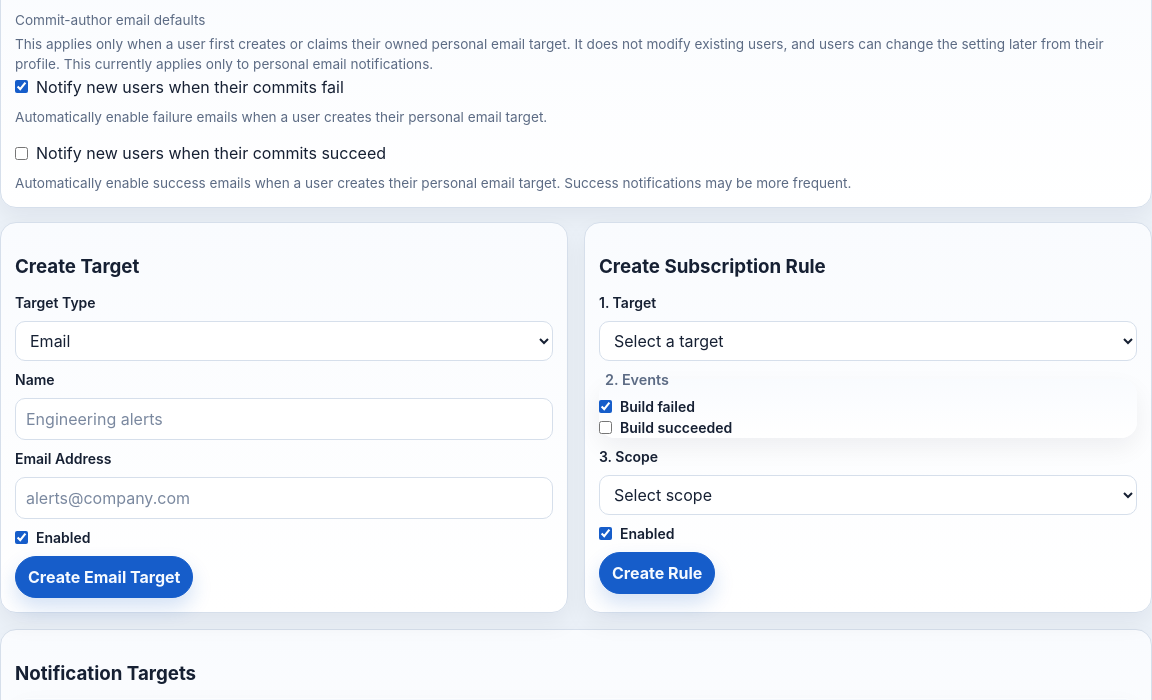
Test: NotificationsPage › shows validation error when job is missing for job scope
(page scrolled)
Select "Email · Engineering alerts" in the dropdown labelled "1. Target" at point(868, 340), box [599, 320, 1137, 360]
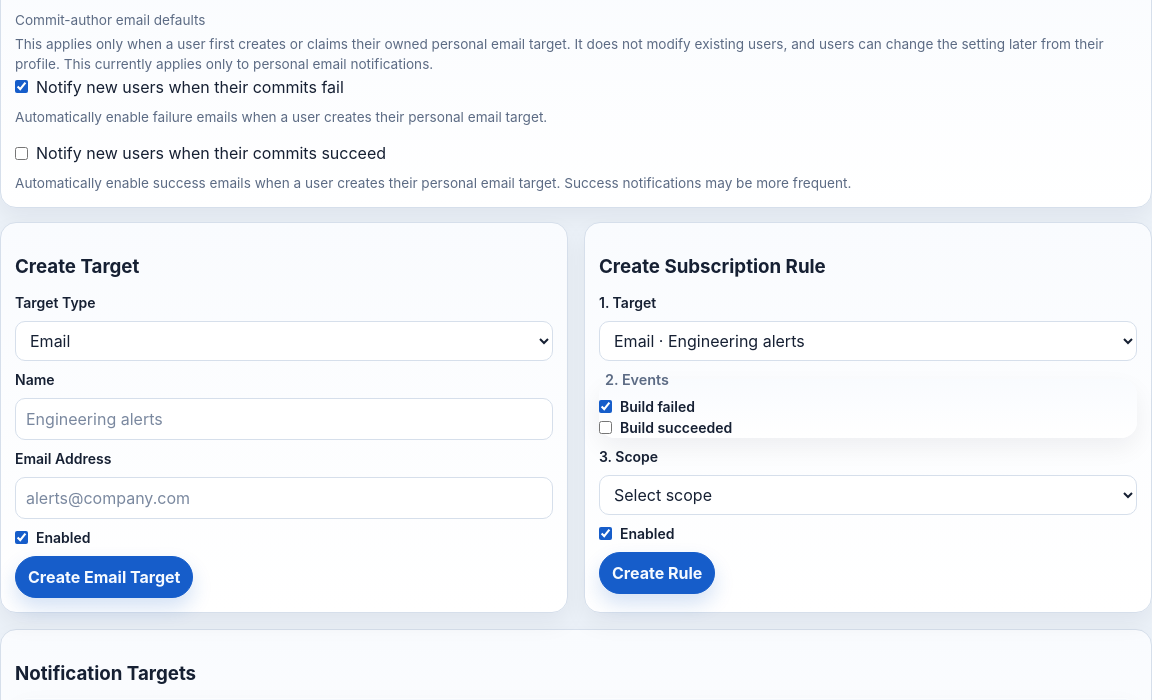
Select "One specific job" in the dropdown labelled "3. Scope" at point(868, 495), box [599, 475, 1137, 515]
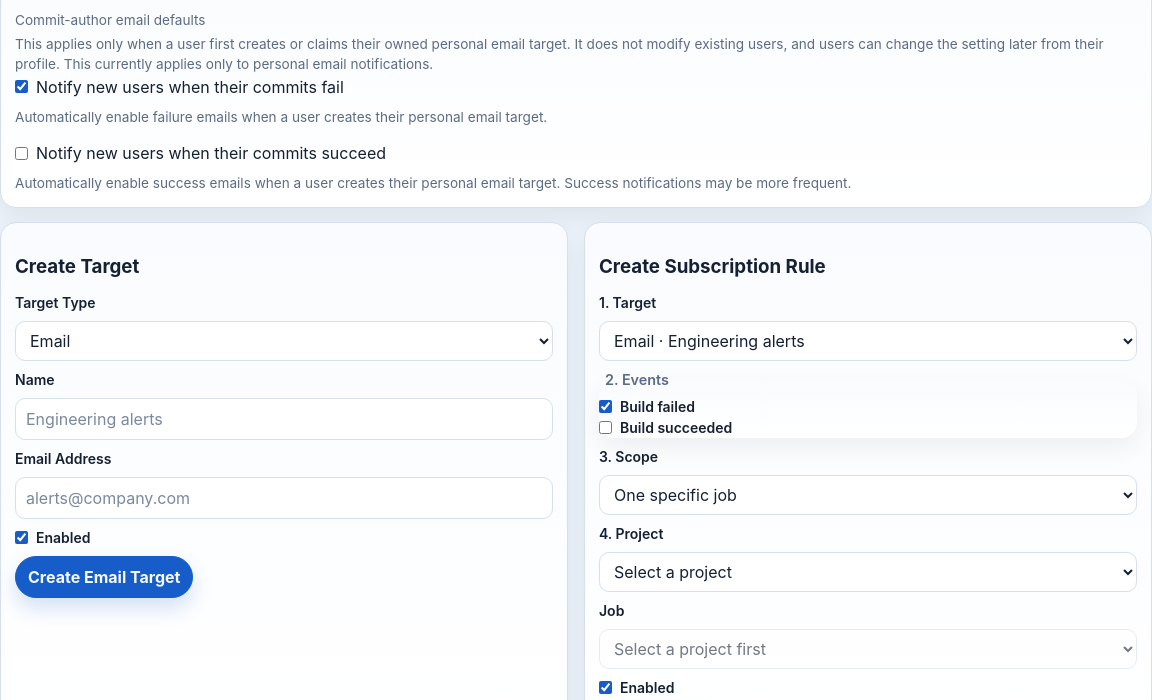
Select "Coyote CI (coyote-ci)" in the dropdown labelled "4. Project" at point(868, 572), box [599, 552, 1137, 592]
(page scrolled)
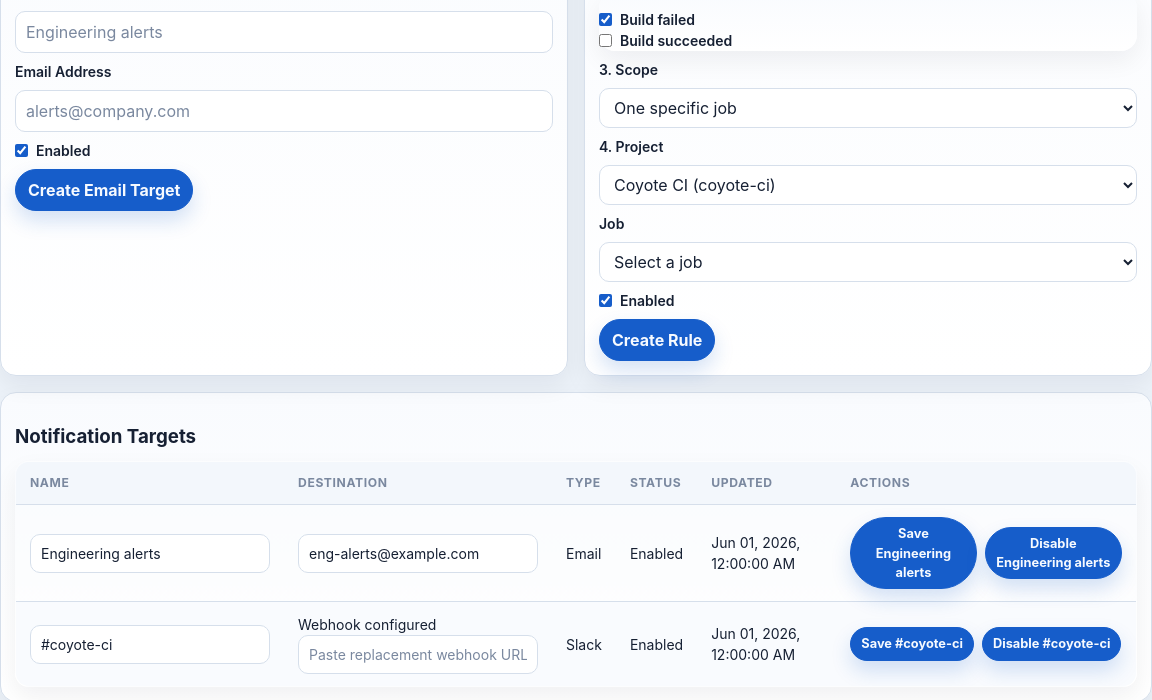
Click the button "Create Rule" at point(657, 340), box [599, 319, 715, 361]
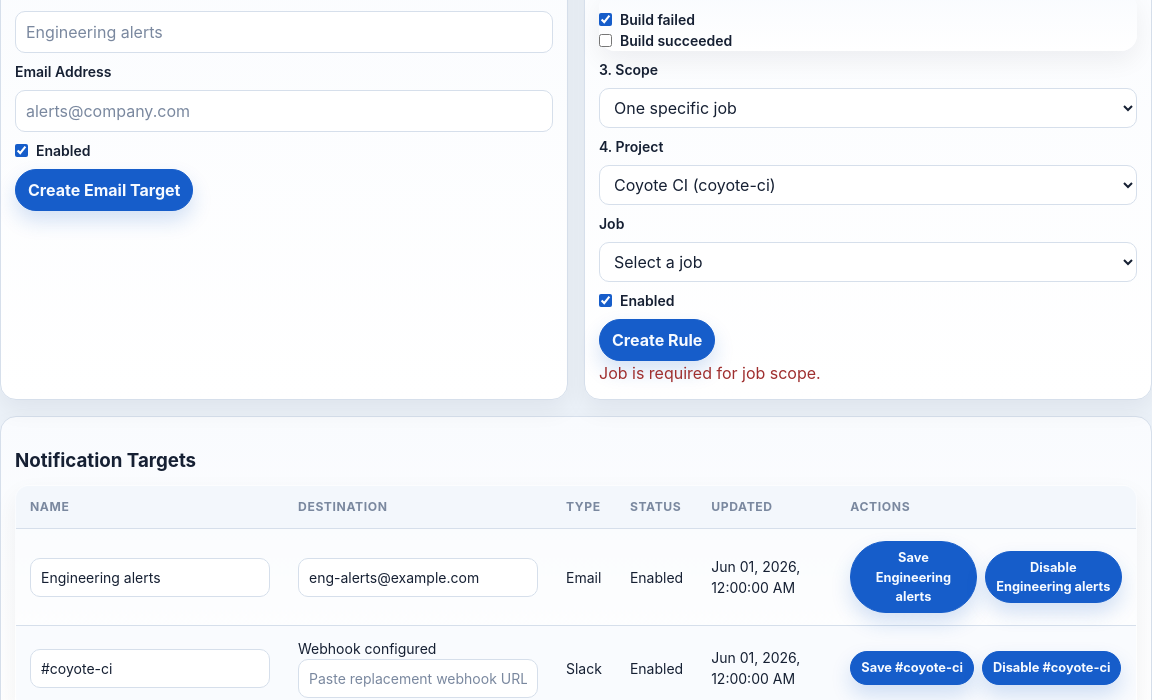
Check: the text "Job is required for job scope." is shown, box [599, 363, 821, 383]
